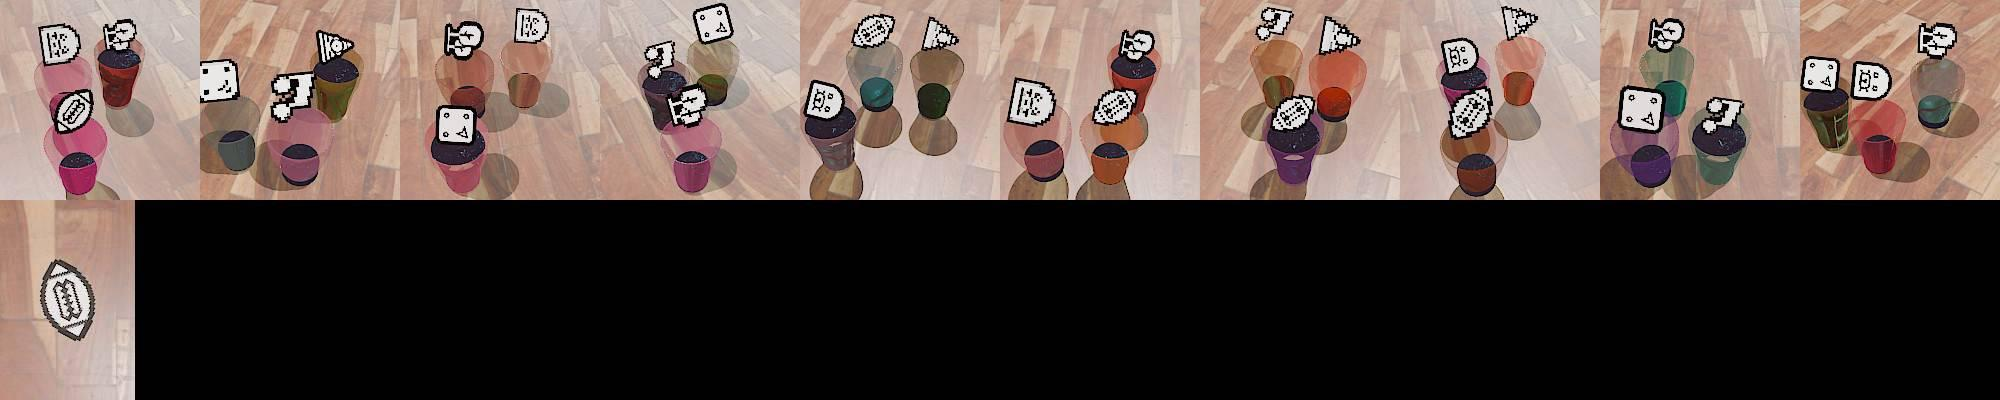icon: (38, 257, 98, 343), (267, 70, 316, 121), (1449, 85, 1494, 139), (1617, 84, 1665, 134), (1008, 76, 1055, 126), (1092, 84, 1142, 126), (52, 88, 94, 135), (38, 22, 80, 68), (199, 57, 240, 104), (435, 103, 480, 145), (667, 82, 709, 126), (1272, 92, 1316, 132), (691, 3, 733, 45), (1851, 60, 1892, 102), (804, 79, 844, 121), (1318, 14, 1360, 55), (851, 13, 895, 50), (1912, 24, 1958, 60), (1440, 37, 1480, 76), (443, 20, 483, 59), (1917, 20, 1958, 59), (1702, 96, 1744, 132), (1800, 56, 1839, 94), (315, 29, 355, 65), (1648, 17, 1685, 54), (1255, 6, 1293, 42), (1117, 28, 1157, 62), (514, 8, 550, 45), (922, 17, 959, 52), (1501, 5, 1538, 41), (105, 18, 138, 54), (644, 39, 676, 74), (50, 262, 69, 280)
